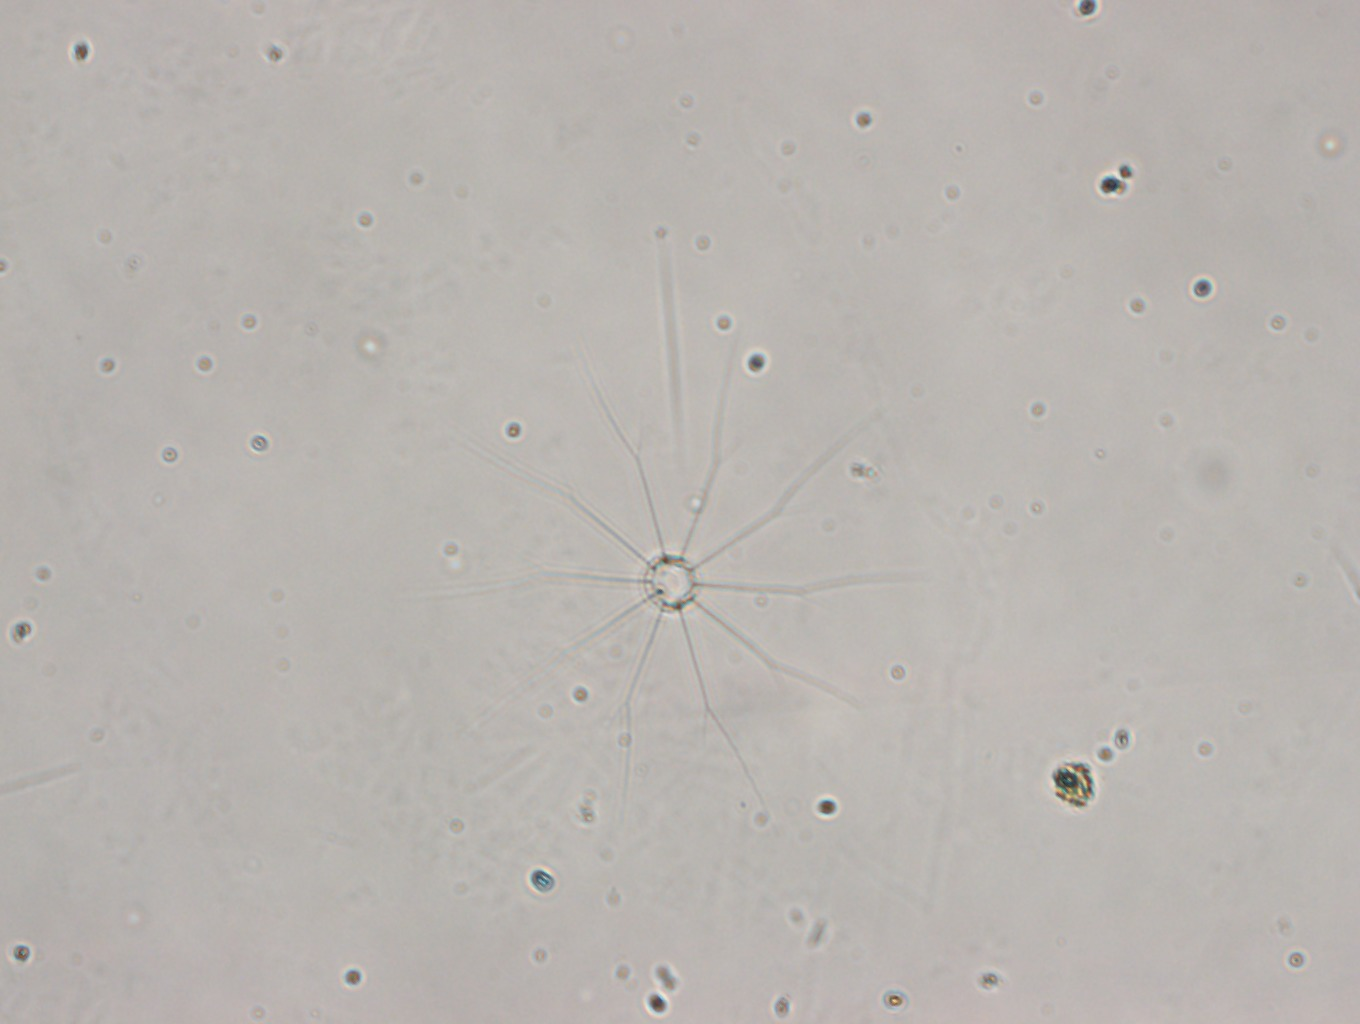bacteriastrum: (415, 322, 933, 830)
